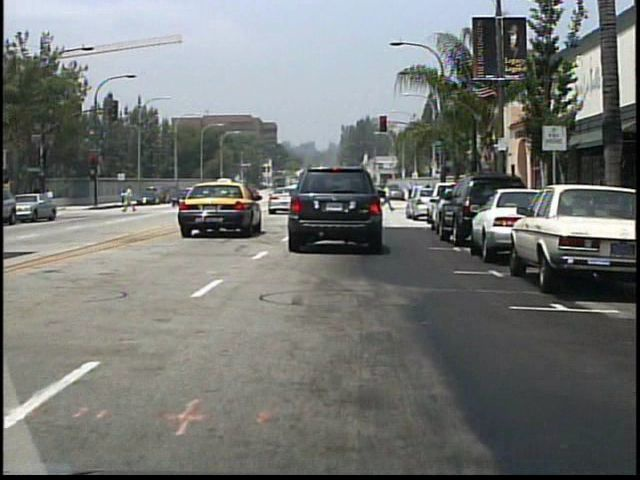person: (122, 187, 138, 215), (381, 184, 396, 212)
